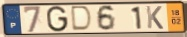1: (130, 6, 143, 31)
6: (95, 4, 118, 33)
7: (22, 5, 43, 34)
D: (71, 5, 94, 33)
G: (46, 5, 69, 33)
K: (145, 5, 165, 30)
